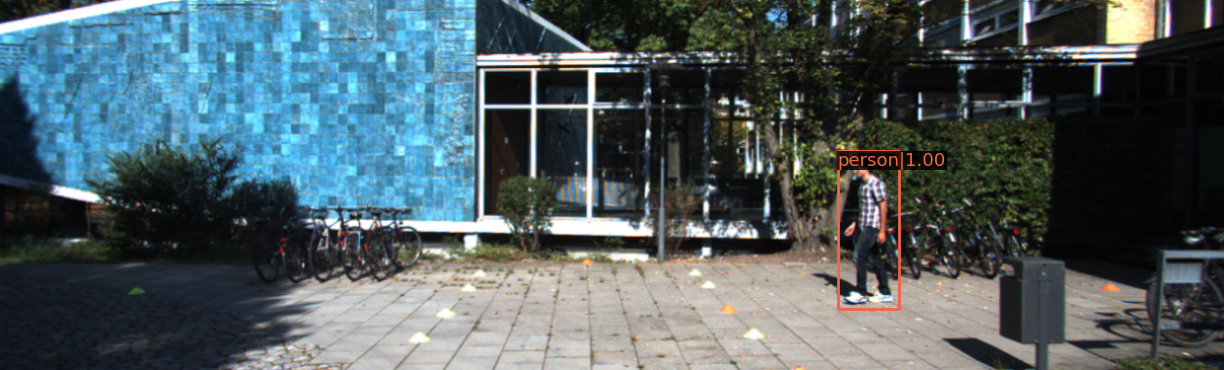person: (841, 152, 898, 306)
